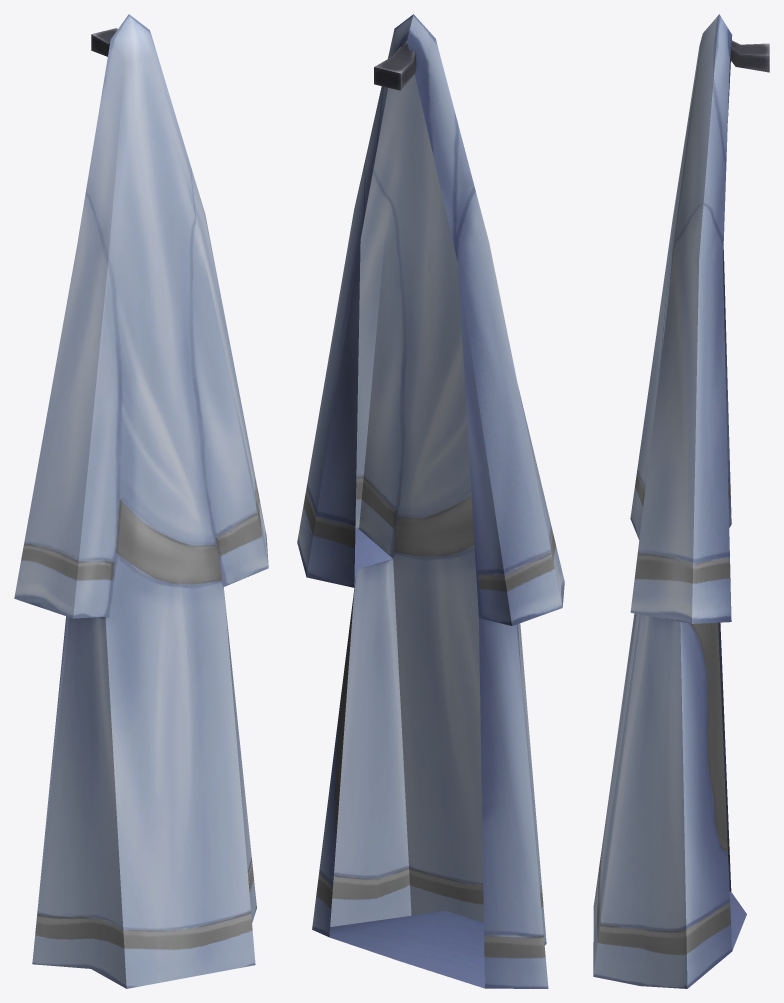
Rendered from albornoz2.fbx.
3 views of the same model, side by side, from view 1: azimuth 30°, elevation 25°; view 2: azimuth 150°, elevation 25°; view 3: azimuth 270°, elevation 25° (orthographic). The views are drawn at different scales.
Parts seen in each view (by area): view 1: albornoz; view 2: albornoz; view 3: albornoz.
Boxes of the visible parts, box(x1,y1,x2,y2) form: albornoz: box(14, 14, 268, 988); albornoz: box(297, 14, 564, 988); albornoz: box(593, 14, 769, 988).
Size of the model in its own units: 37.62 by 132 by 22.54.
1 material, 1 textured.
